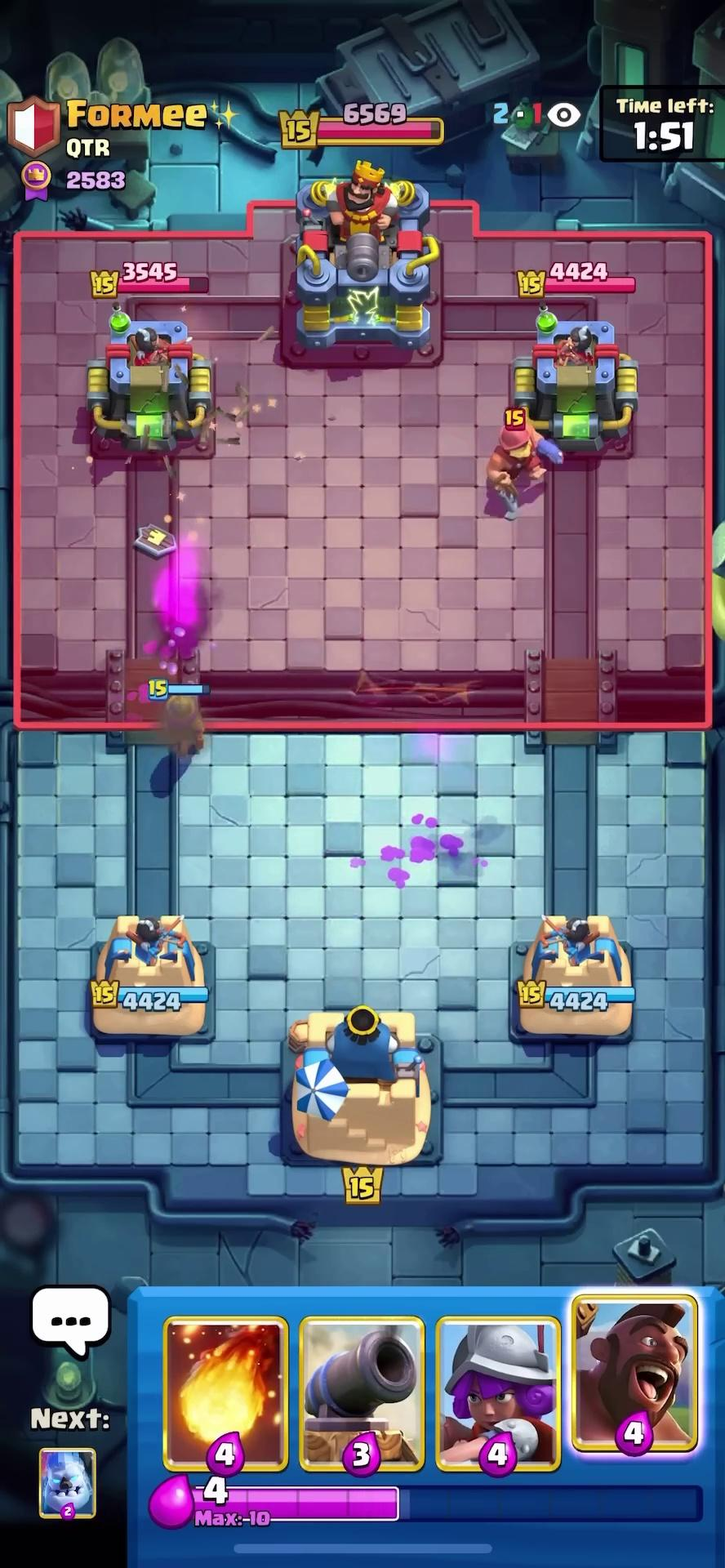musketeer: (133, 674, 218, 770)
